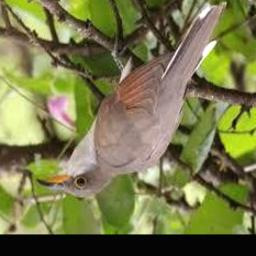Cuckoo: (36, 2, 226, 198)
